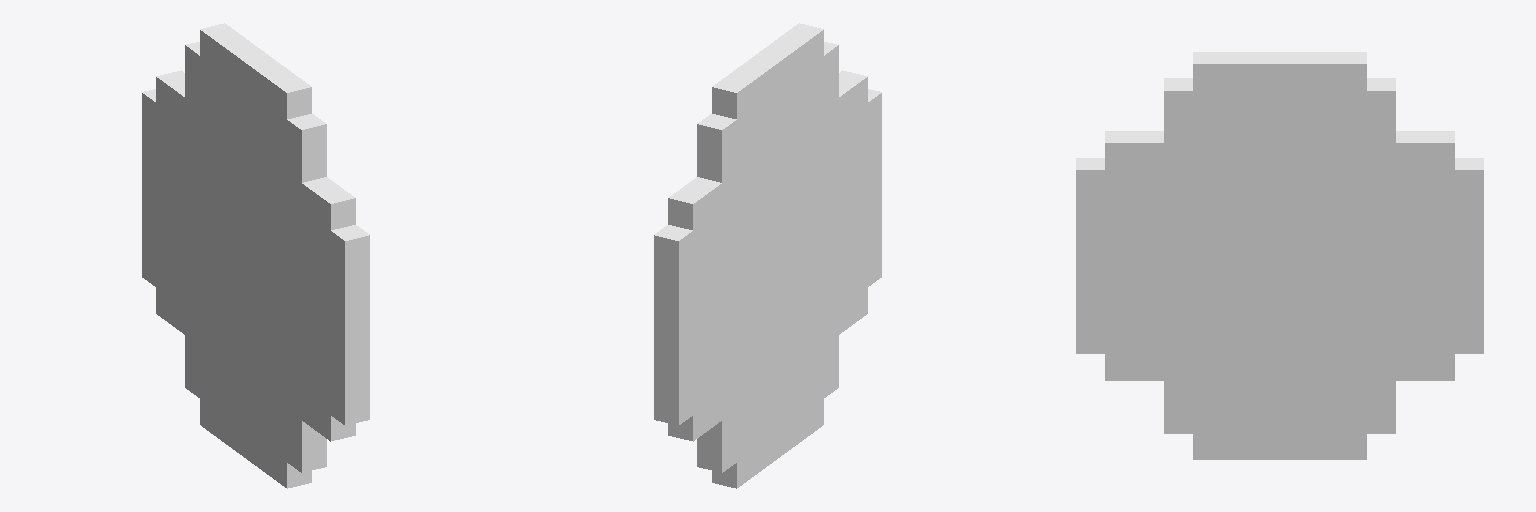
The model's file is money.vox.obj.
3 views of the same model, side by side, from view 1: azimuth 30°, elevation 25°; view 2: azimuth 150°, elevation 25°; view 3: azimuth 270°, elevation 25° (orthographic).
Parts seen in each view (by area): view 1: object 1; view 2: object 1; view 3: object 1.
Part boxes in pixels (bbox=[...]): object 1: bbox=[142, 23, 369, 488]; object 1: bbox=[654, 23, 881, 488]; object 1: bbox=[1076, 52, 1483, 459].
Bounding box in the file's own units: 0.1 × 1.5 × 1.4.